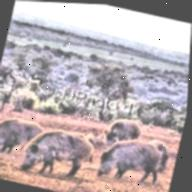boar: (15, 115, 99, 189), (91, 131, 166, 192), (95, 111, 149, 156), (0, 113, 45, 164)
